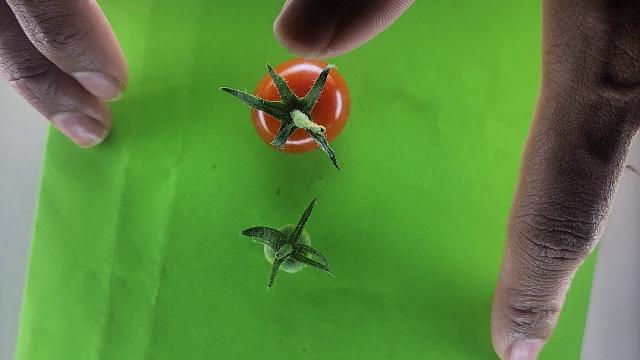Fruit Maturation: (264, 225, 312, 272)
Fully Grown: (250, 56, 352, 154)
